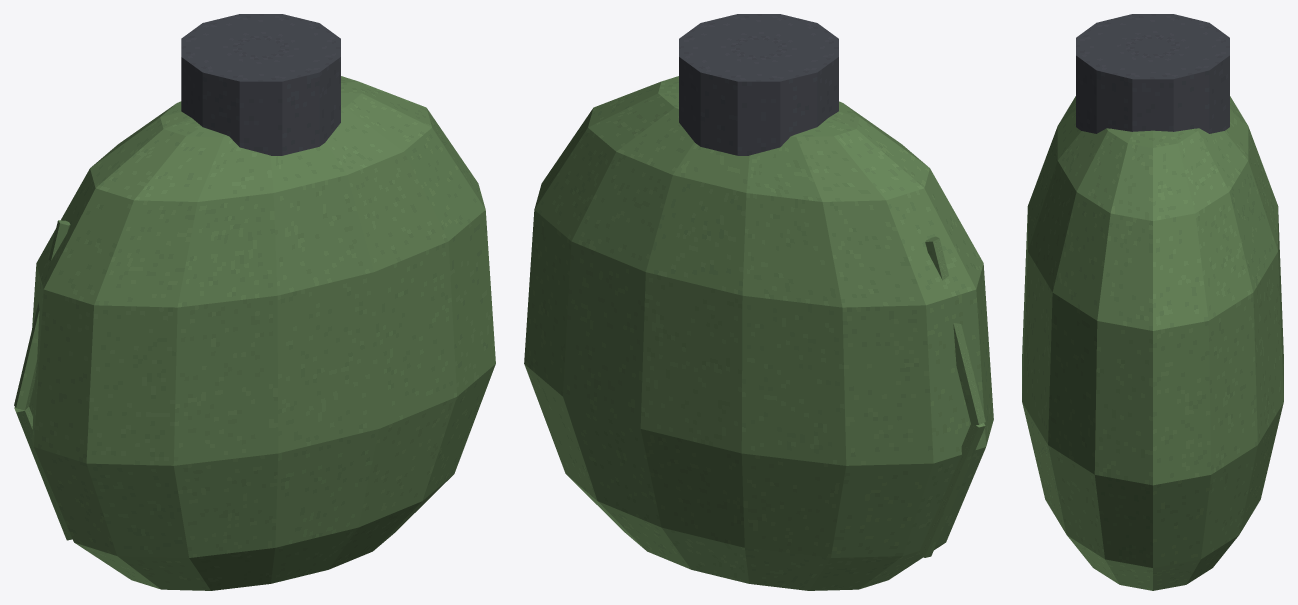
The model's file is canteen.glb.
3 renders of one model, left to right at view 1: azimuth 30°, elevation 25°; view 2: azimuth 150°, elevation 25°; view 3: azimuth 270°, elevation 25°, orthographic. The views are drawn at different scales.
Parts seen in each view (by area): view 1: block_molded canteen, block_screw cap, block_joined canteen seam 1, block_joined canteen seam 0; view 2: block_molded canteen, block_screw cap, block_joined canteen seam 1, block_joined canteen seam 0; view 3: block_molded canteen, block_screw cap.
Boxes of the visible parts, box(x1,y1,x2,y2) form: block_molded canteen: box(29, 76, 495, 590); block_screw cap: box(181, 14, 340, 155); block_joined canteen seam 1: box(14, 220, 70, 410); block_joined canteen seam 0: box(14, 407, 72, 540); block_molded canteen: box(524, 76, 993, 590); block_screw cap: box(679, 14, 838, 155); block_joined canteen seam 1: box(925, 236, 985, 425); block_joined canteen seam 0: box(917, 423, 985, 557); block_molded canteen: box(1022, 96, 1283, 590); block_screw cap: box(1076, 14, 1229, 133).
Bounding box in the file's own units: 0.1936 × 0.2 × 0.0981.
Materials: 1 (1 with a texture image).
